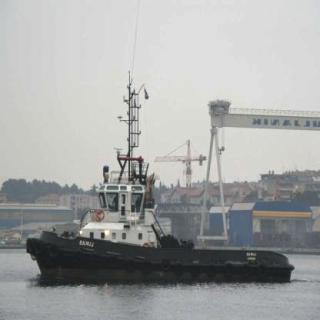Tug Boat: (42, 124, 308, 274)
